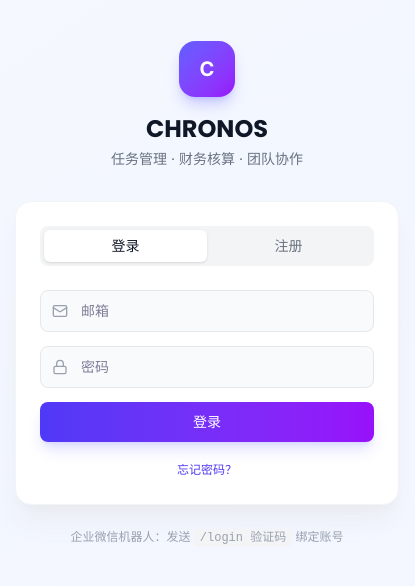
Scenario: LoginPage · 登录模式真实校验 › 空密码被拦截
Type "user@example.com" into the field with placeholder "邮箱" at (207, 310), box 40,290 -> 374,332
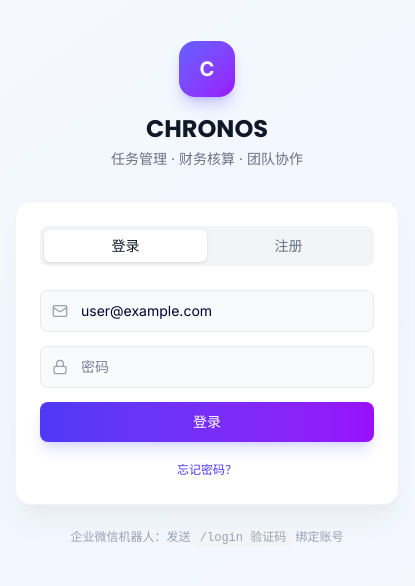
Submit the form, box 40,290 -> 374,480
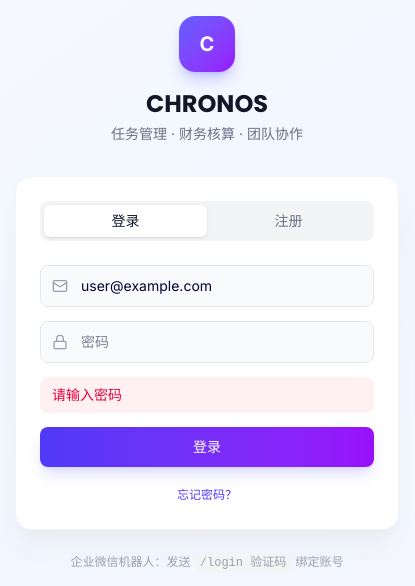
Expected: the text "请输入密码" is shown, 52,384 -> 122,404
